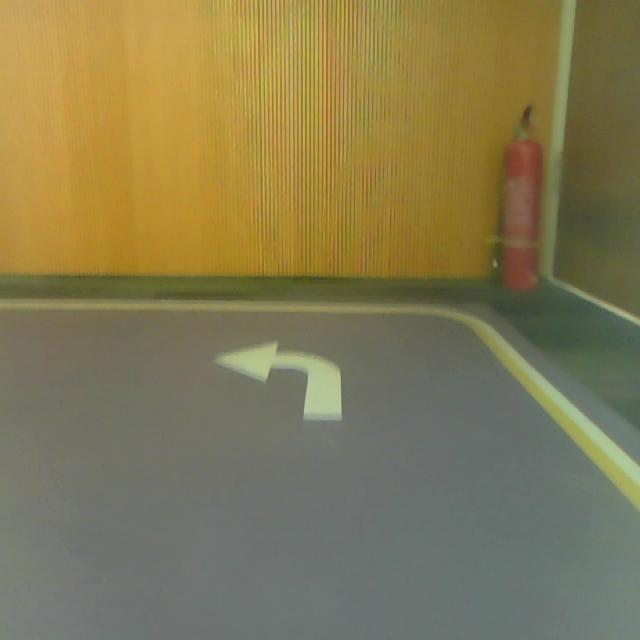right_lane: (465, 323, 639, 511)
